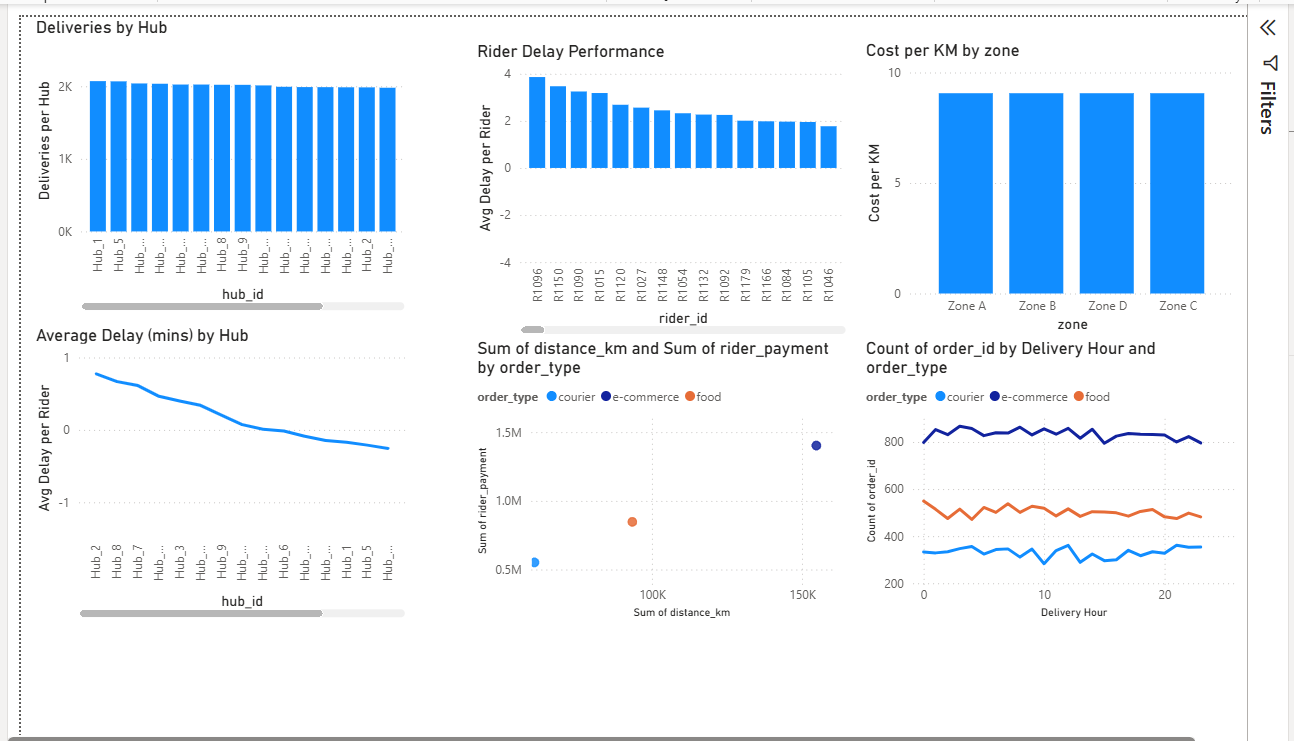

The page's visual inventory and layout, read from the dashboard file:
{"tool":"powerbi","page":{"name":"Dashboard 3","canvas":[1280,720],"ordinal":2},"visuals":[{"type":"clusteredColumnChart","title":"Deliveries by Hub","fields":{"Category":["cleaned_deliveries.hub_id"],"Y":["cleaned_deliveries.Deliveries per Hub"]},"box":[10.3,0,378.5,298.4],"z":0},{"type":"lineChart","title":"Average Delay (mins) by Hub","fields":{"Category":["cleaned_deliveries.hub_id"],"Y":["cleaned_deliveries.Avg Delay per Rider"]},"box":[10,308,379,298],"z":1},{"type":"columnChart","title":"Rider Delay Performance","fields":{"Category":["cleaned_deliveries.rider_id"],"Y":["cleaned_deliveries.Avg Delay per Rider"]},"box":[450.9,23.3,378.5,298.4],"z":2},{"type":"clusteredColumnChart","fields":{"Category":["cleaned_deliveries.zone"],"Y":["cleaned_deliveries.Cost per KM"]},"box":[840,23,379,298],"z":3},{"type":"scatterChart","fields":{"X":["Sum(cleaned_deliveries.distance_km)"],"Y":["Sum(cleaned_deliveries.rider_payment)"],"Series":["cleaned_deliveries.order_type"]},"box":[451,321,379,285],"z":4},{"type":"lineChart","fields":{"Category":["cleaned_deliveries.Delivery Hour"],"Y":["CountNonNull(cleaned_deliveries.order_id)"],"Series":["cleaned_deliveries.order_type"]},"box":[840,321,379,285],"z":5}]}

Visuals, with their boxes on the page's 1280x720 design canvas (x1, y1, x2, y2). These are canvas units, not pixel positions in the 1294x741 screenshot, which may show the page scaled, cropped or inside an application window:
"Deliveries by Hub" clusteredColumnChart: left=10, top=0, right=389, bottom=298
"Average Delay (mins) by Hub" lineChart: left=10, top=308, right=389, bottom=606
"Rider Delay Performance" columnChart: left=451, top=23, right=829, bottom=322
clusteredColumnChart - cleaned_deliveries.zone x cleaned_deliveries.Cost per KM: left=840, top=23, right=1219, bottom=321
scatterChart - Sum(cleaned_deliveries.distance_km) x Sum(cleaned_deliveries.rider_payment): left=451, top=321, right=830, bottom=606
lineChart - cleaned_deliveries.Delivery Hour x CountNonNull(cleaned_deliveries.order_id): left=840, top=321, right=1219, bottom=606
